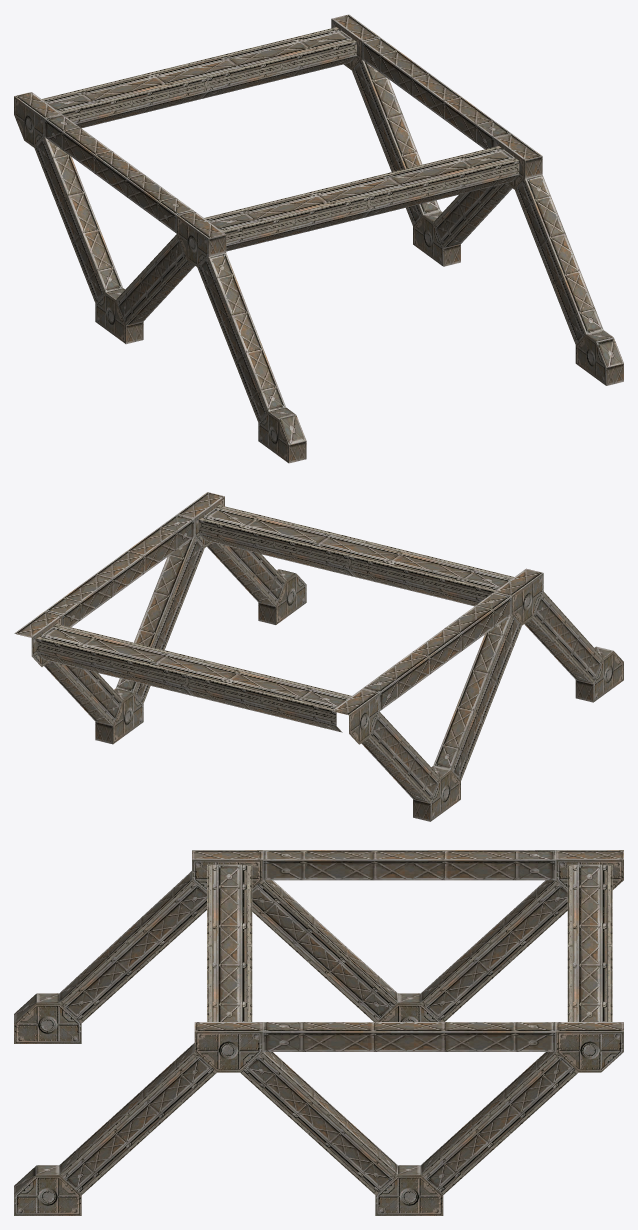
Rendered from MISSION8_LARGEBRIDGE_A1.glb.
The picture shows the model from 3 angles, top to bottom: view 1: azimuth 30°, elevation 25°; view 2: azimuth 150°, elevation 25°; view 3: azimuth 270°, elevation 25°; orthographic projection. The views are drawn at different scales.
Visible parts, largest first — view 1: MISSION8_LARGEBRIDGE_A1; view 2: MISSION8_LARGEBRIDGE_A1; view 3: MISSION8_LARGEBRIDGE_A1.
Part boxes in pixels (x1,y1,x2,y2): MISSION8_LARGEBRIDGE_A1: [14, 14, 623, 463]; MISSION8_LARGEBRIDGE_A1: [14, 492, 623, 821]; MISSION8_LARGEBRIDGE_A1: [14, 850, 623, 1215].
Size of the model in its own units: 19 by 9 by 27.
Materials: 2 (2 with a texture image).
